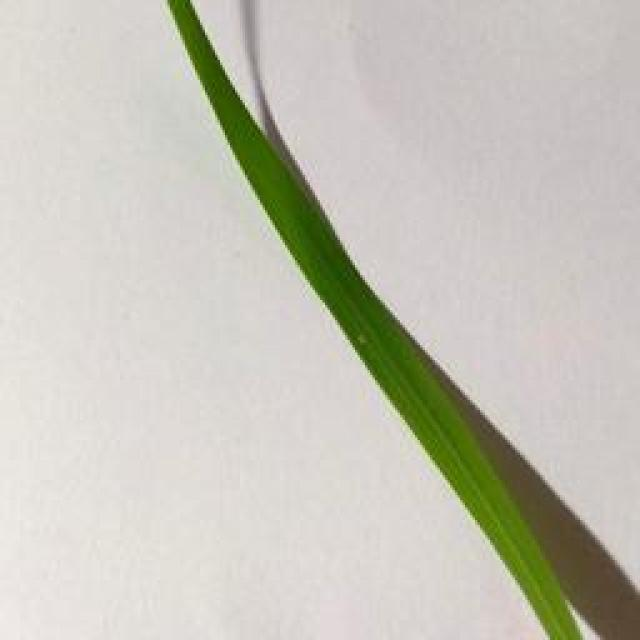Healthy-Plant: (170, 0, 640, 640)
